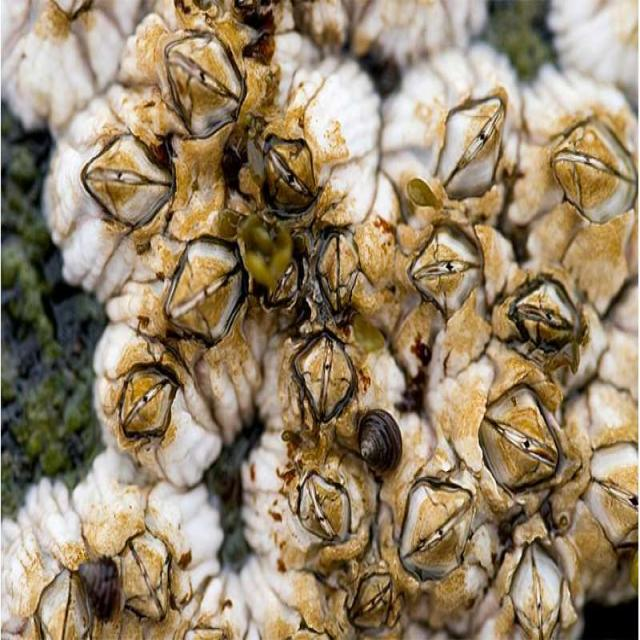barnacles: (518, 53, 640, 280), (240, 36, 372, 231), (382, 51, 522, 225), (44, 110, 204, 254), (447, 343, 578, 517), (85, 330, 220, 491), (389, 197, 508, 365), (130, 0, 259, 150), (390, 439, 495, 612), (94, 482, 204, 631), (485, 250, 602, 387), (148, 218, 254, 362), (0, 479, 94, 640), (261, 318, 386, 438), (484, 519, 594, 639), (272, 446, 371, 571)
